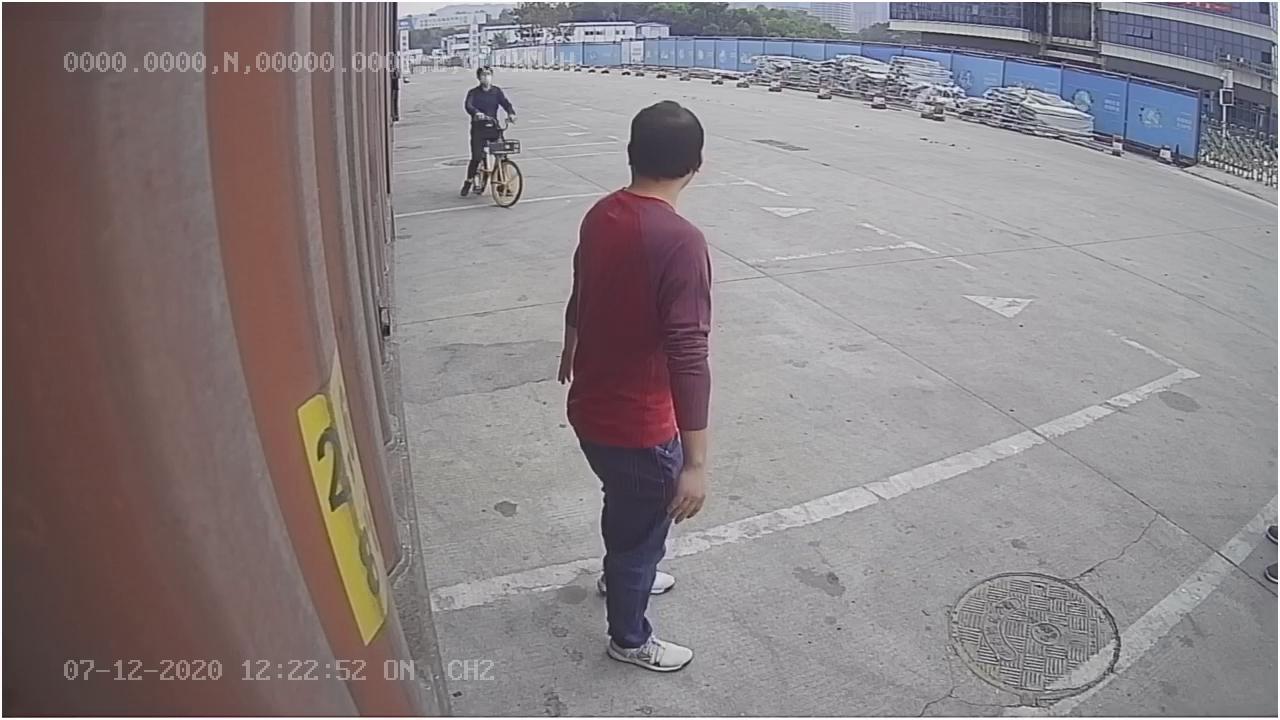person: (551, 97, 723, 682)
